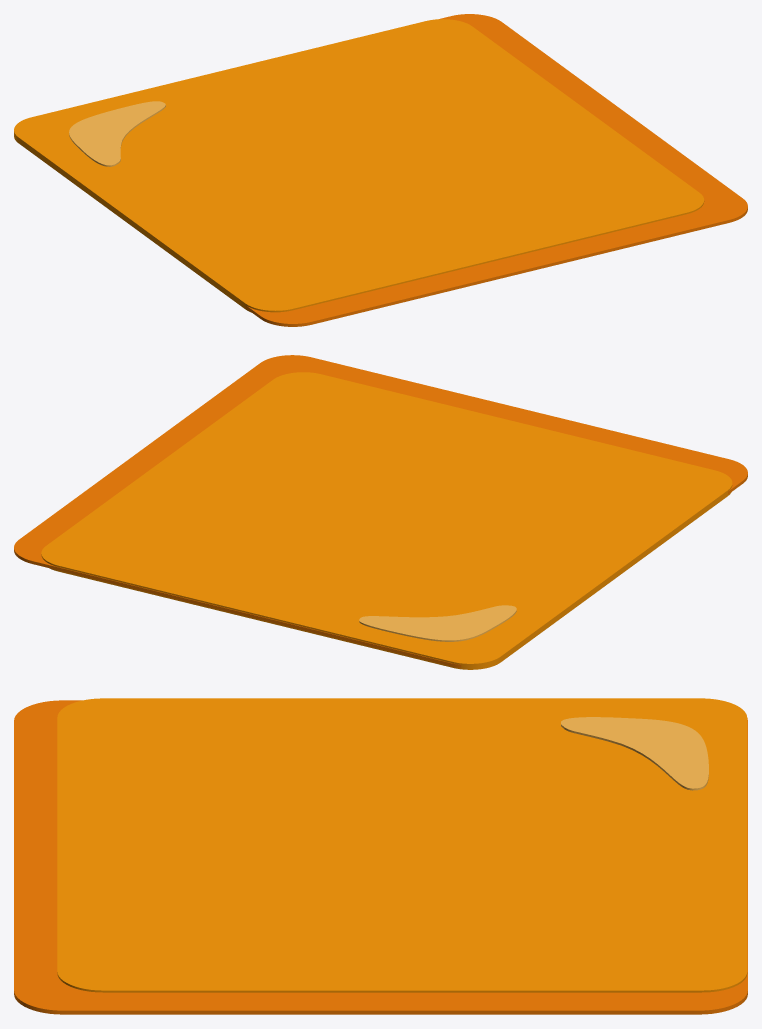
File: emoji_u1f7e7.glb
3 views of the same model, one above another, from view 1: azimuth 30°, elevation 25°; view 2: azimuth 150°, elevation 25°; view 3: azimuth 270°, elevation 25° (orthographic). The views are drawn at different scales.
Visible parts, largest first — view 1: emoji_u1f7e7; view 2: emoji_u1f7e7; view 3: emoji_u1f7e7.
Boxes of the visible parts, x1,y1,x2,y2 form: emoji_u1f7e7: (14, 14, 747, 326); emoji_u1f7e7: (14, 355, 747, 669); emoji_u1f7e7: (14, 698, 747, 1014).
Size of the model in its own units: 0.0339 by 0.0006 by 0.0339.
